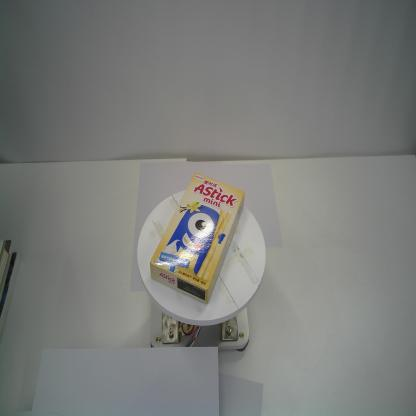Dessert: (150, 172, 245, 305)
